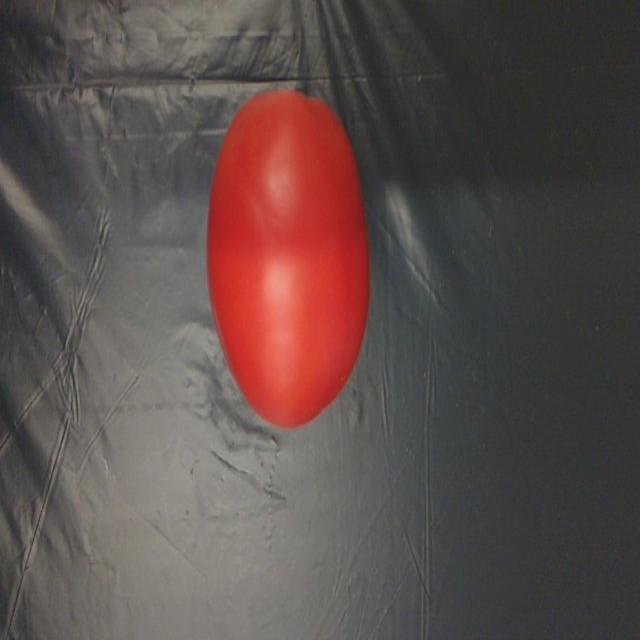kirmizi: (210, 74, 377, 429)
